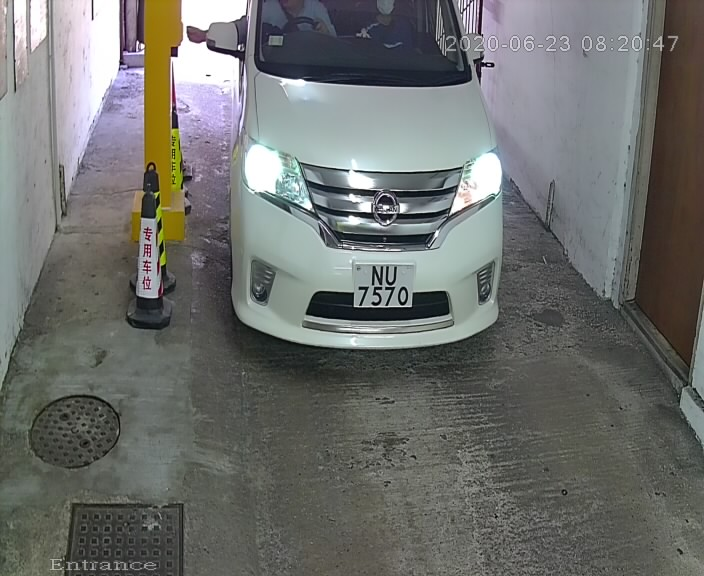privatecar: (171, 2, 521, 371)
